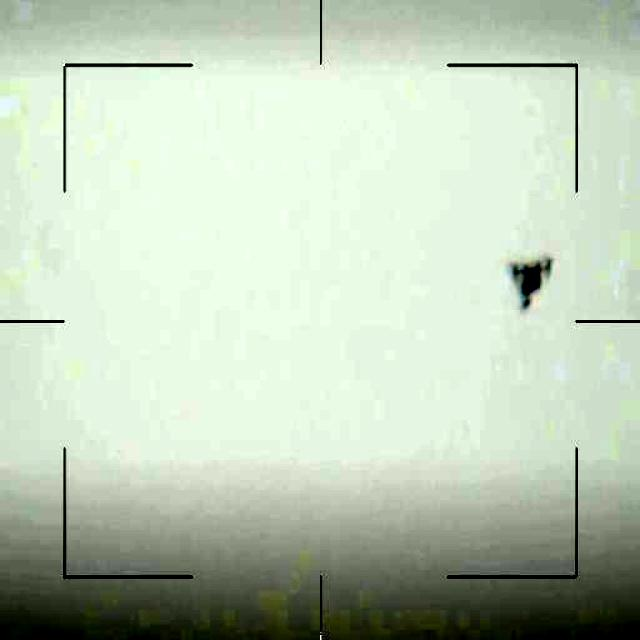bird: (508, 258, 561, 330)
